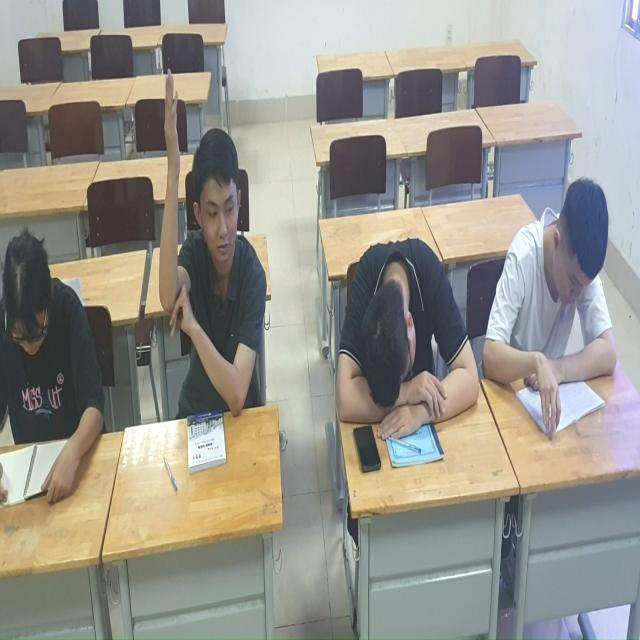raise_hand: (150, 55, 266, 411)
read: (490, 171, 625, 433), (2, 231, 106, 508)
sleep: (335, 228, 486, 434)
